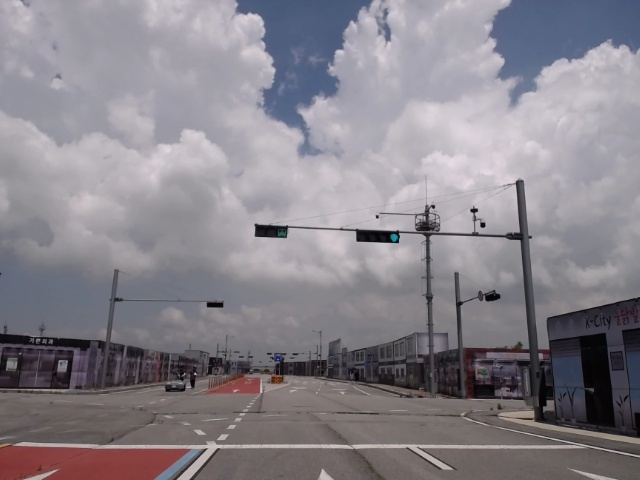straight_green_4: (356, 230, 398, 244)
